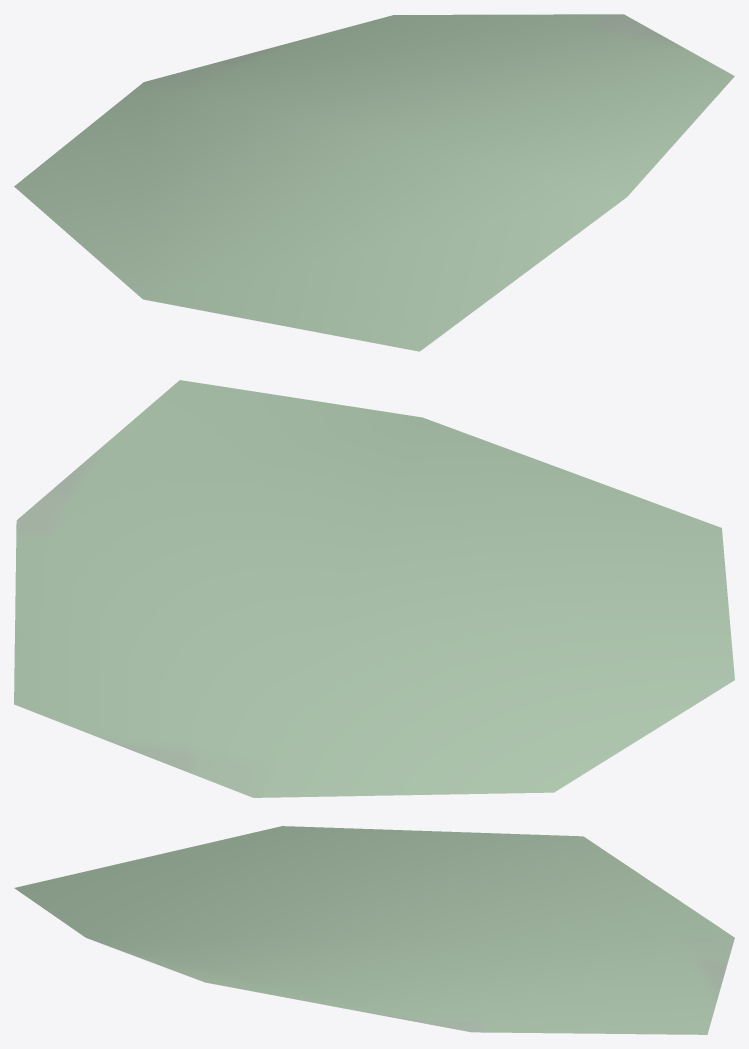
File: TROLLHOLE02_HOLECAP22.fbx
The picture shows the model from 3 angles, top to bottom: view 1: azimuth 30°, elevation 25°; view 2: azimuth 150°, elevation 25°; view 3: azimuth 270°, elevation 25°; orthographic projection. The views are drawn at different scales.
Visible parts, largest first — view 1: TROLLHOLE02_HOLECAP22; view 2: TROLLHOLE02_HOLECAP22; view 3: TROLLHOLE02_HOLECAP22.
Part boxes in pixels (x1,y1,x2,y2): TROLLHOLE02_HOLECAP22: (14,14,734,351); TROLLHOLE02_HOLECAP22: (14,380,734,797); TROLLHOLE02_HOLECAP22: (14,826,734,1034).
Bounding box in the file's own units: 31874 × 6190 × 34183.
1 material, 1 textured.
